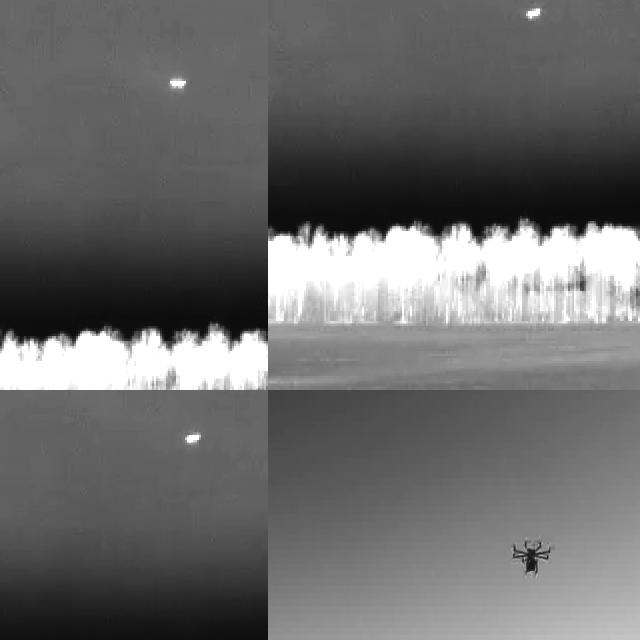1: (160, 72, 196, 102), (517, 1, 553, 31), (176, 426, 212, 456)
drone: (510, 529, 553, 583)
